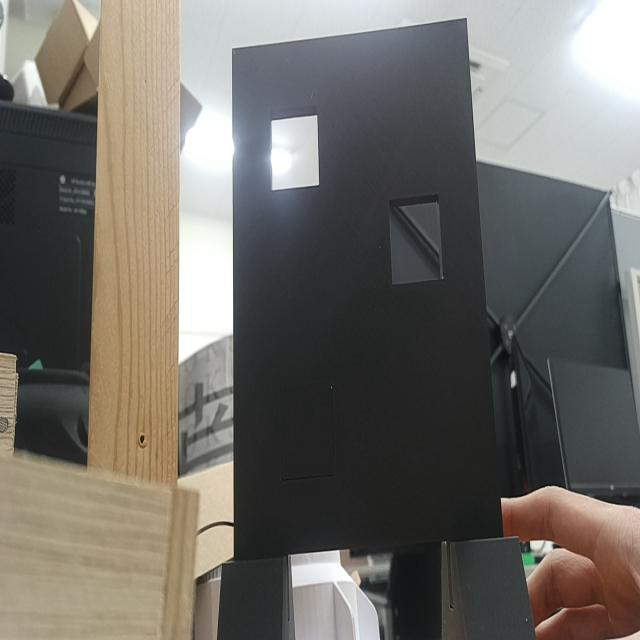Obstacle: (390, 200, 444, 284), (271, 115, 319, 189)
Wall: (232, 20, 501, 558)
